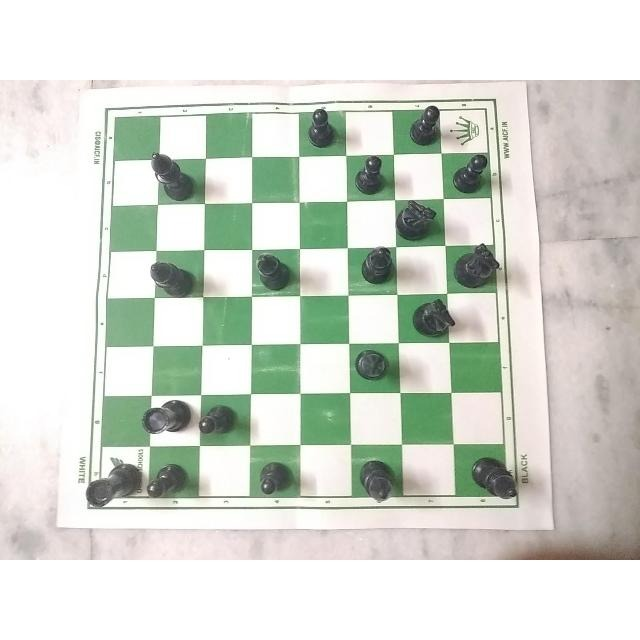black-bishop: (463, 456, 528, 508), (144, 146, 200, 202), (354, 449, 406, 508), (148, 252, 198, 301), (253, 245, 295, 294), (352, 345, 398, 388), (359, 243, 397, 287)
black-knight: (451, 244, 507, 290), (405, 299, 461, 340), (394, 198, 440, 244)
black-pawn: (143, 460, 198, 504), (193, 400, 245, 444), (405, 98, 444, 148), (452, 148, 491, 195), (302, 103, 340, 150), (256, 456, 292, 500), (352, 153, 388, 195)
black-rook: (86, 456, 144, 512), (134, 398, 195, 445)
